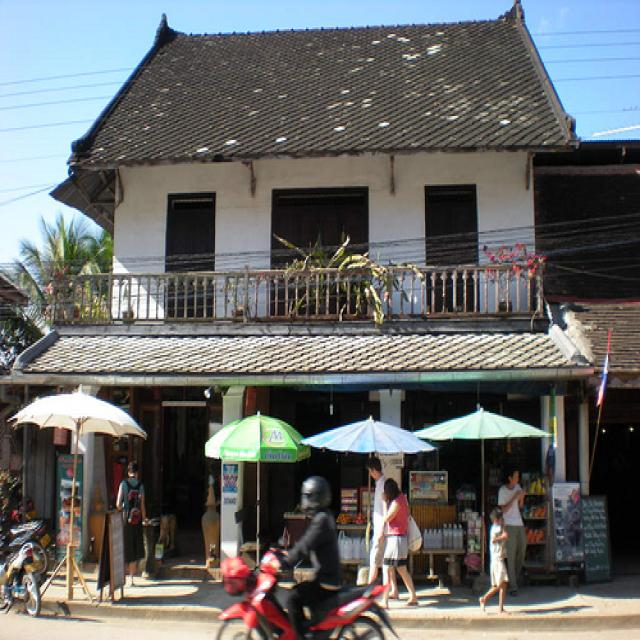motor: (217, 554, 394, 633), (2, 518, 48, 615)
